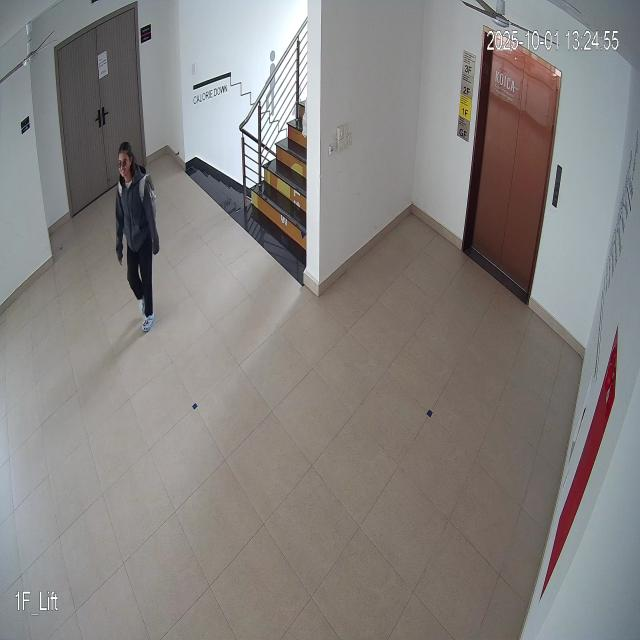face: (113, 140, 136, 186)
